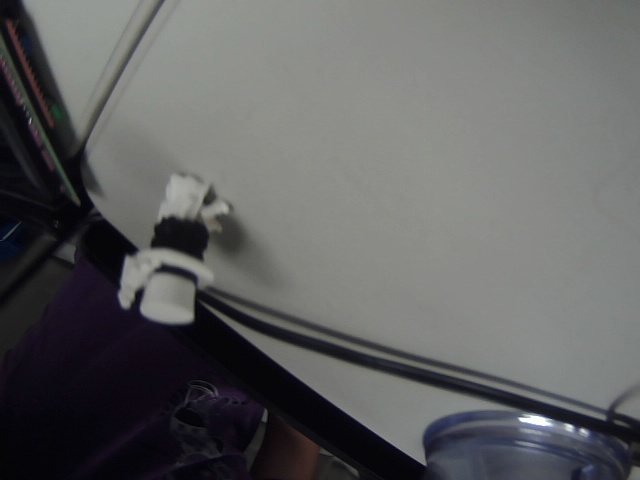lucci: (103, 165, 257, 329)
